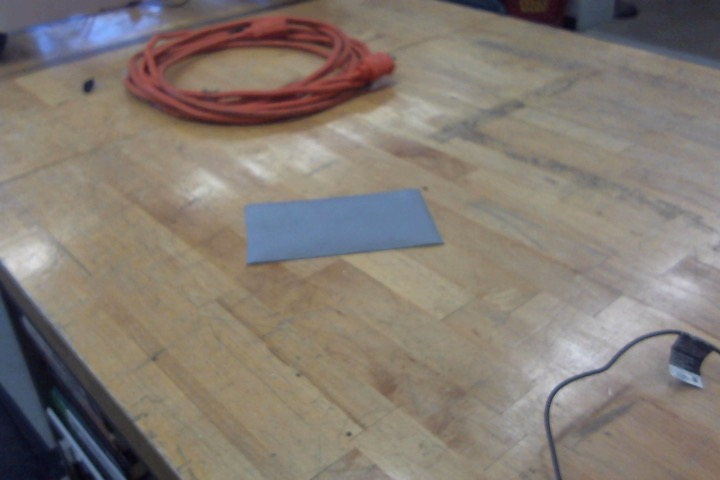Tape: (245, 189, 446, 261)
